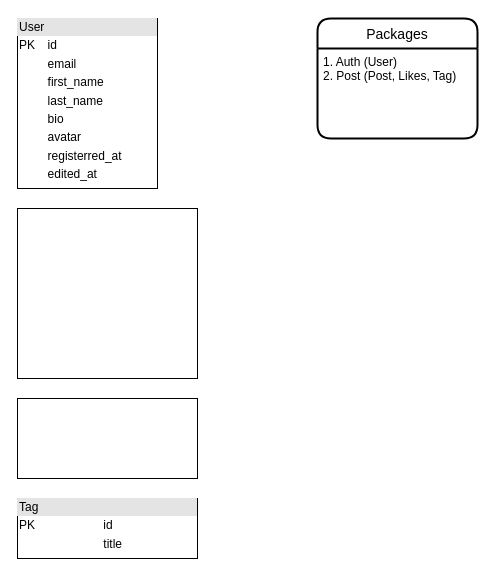
Some shapes in this 496 by 576 pixel diagram are drawn without their labels. Here are the shapes that lost their labels. From the top down, the centre of each, then its label:
At (107,293): "Post PK id FK1 user description created_at images likes tags edited_at".
At (107,438): "Likes FK1 user FK2 post date".
